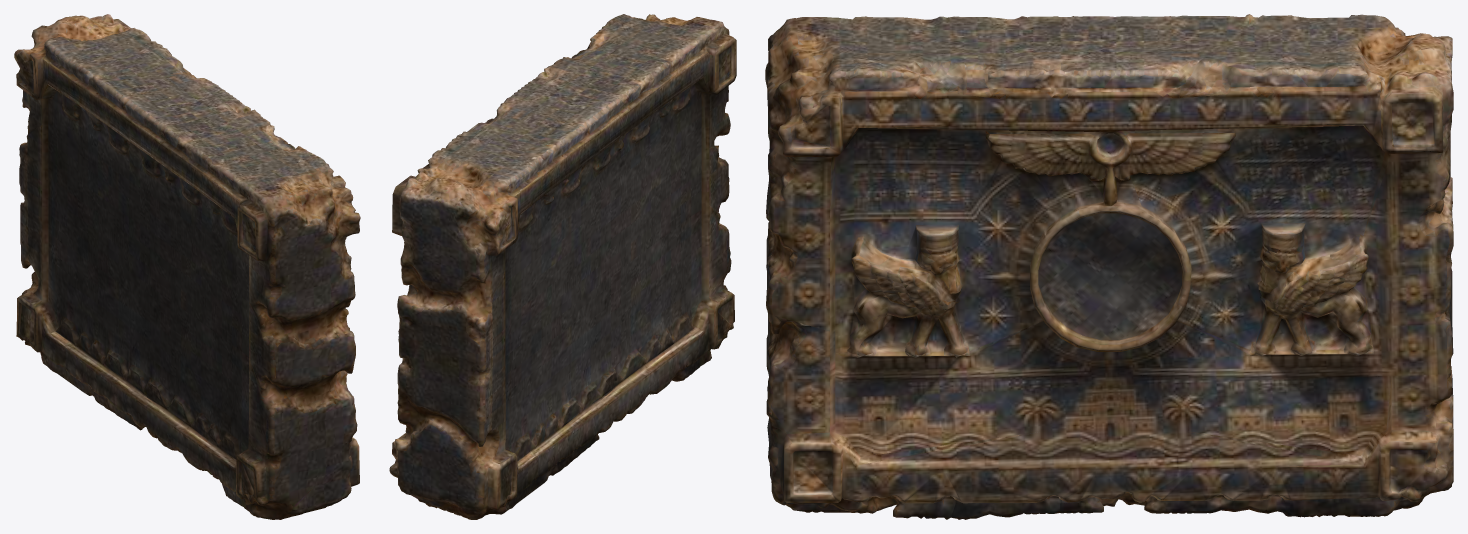
Rendered from لوح المحاق.glb.
3 views of the same model, side by side, from view 1: azimuth 30°, elevation 25°; view 2: azimuth 150°, elevation 25°; view 3: azimuth 270°, elevation 25° (orthographic). The views are drawn at different scales.
Parts seen in each view (by area): view 1: tripo_node_53a5174b-0816-451a-8b39-0914c113ca59; view 2: tripo_node_53a5174b-0816-451a-8b39-0914c113ca59; view 3: tripo_node_53a5174b-0816-451a-8b39-0914c113ca59.
Part boxes in pixels (x1,y1,x2,y2): tripo_node_53a5174b-0816-451a-8b39-0914c113ca59: (14, 14, 360, 519); tripo_node_53a5174b-0816-451a-8b39-0914c113ca59: (389, 14, 736, 519); tripo_node_53a5174b-0816-451a-8b39-0914c113ca59: (765, 14, 1453, 519).
Size of the model in its own units: 0.1717 by 0.5 by 0.6863.
1 material, 1 textured.
